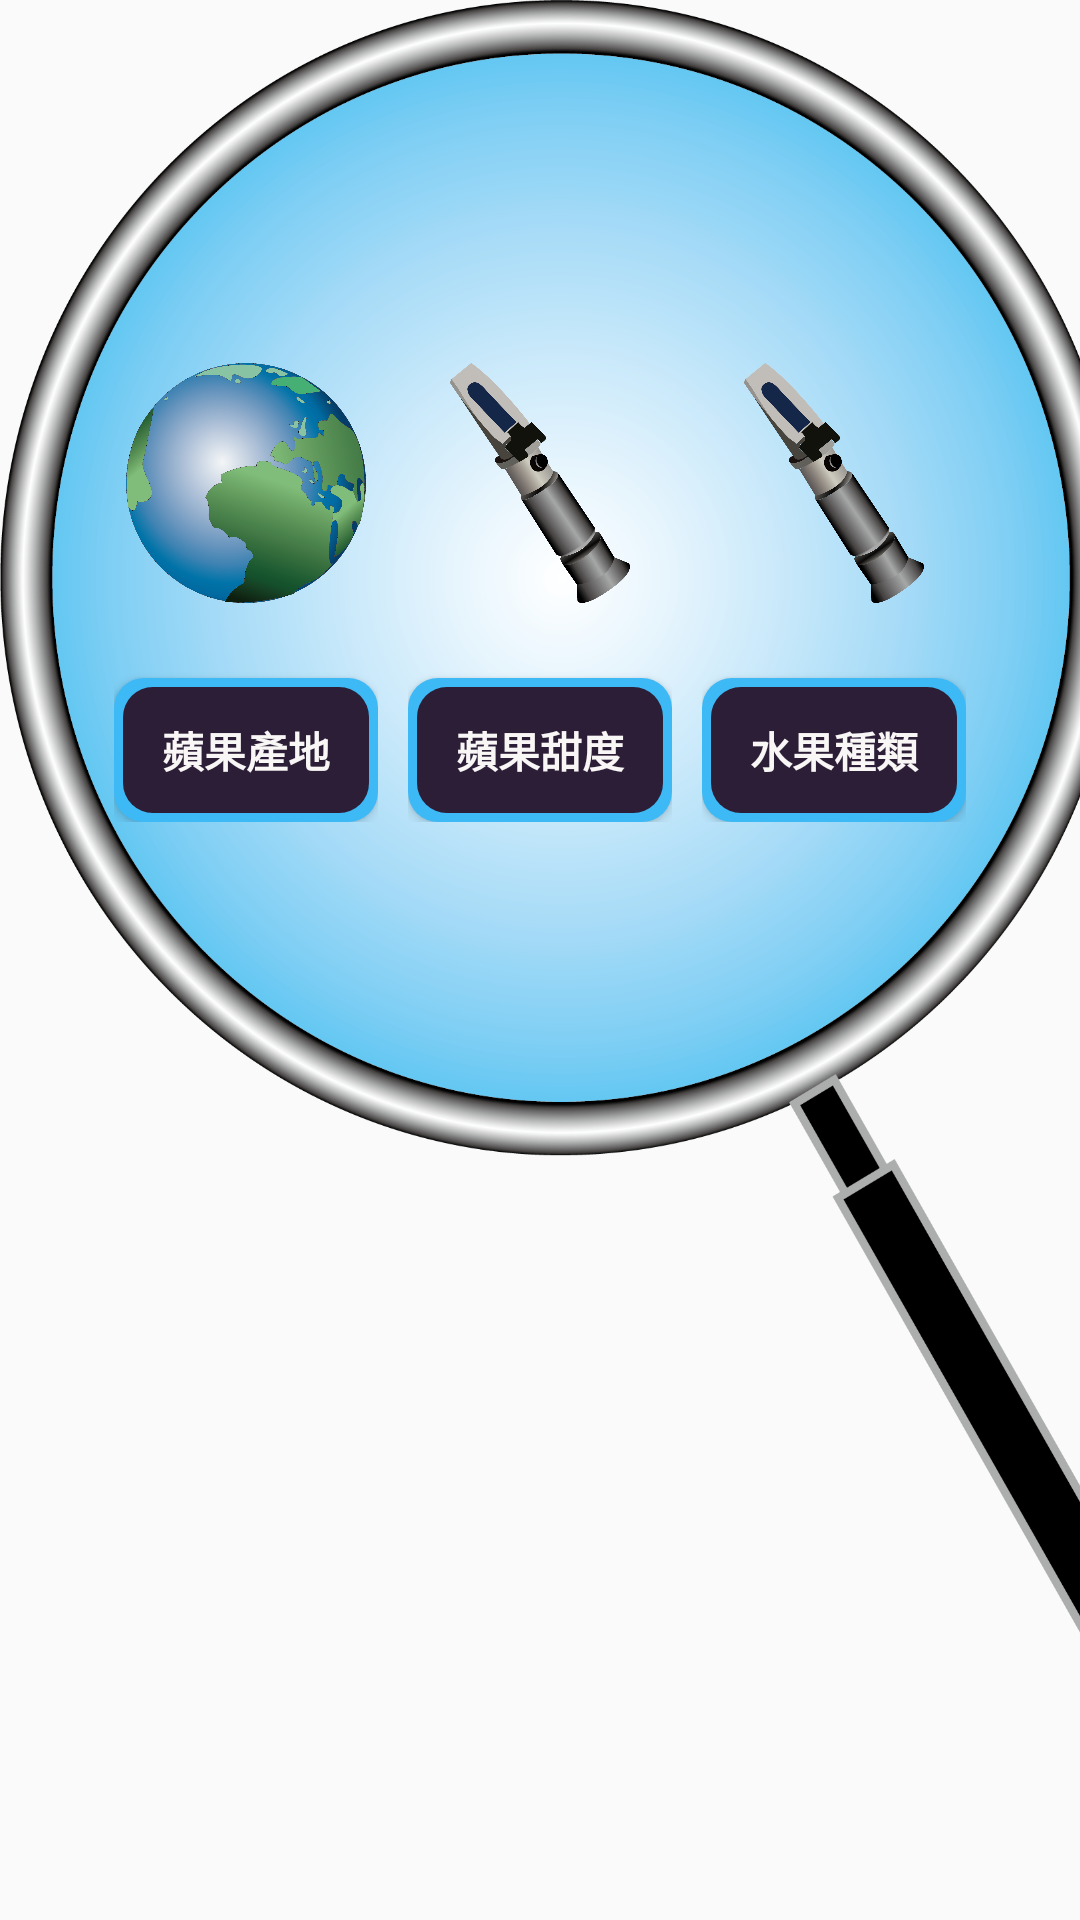

Named icons in this screenshot (1080px×1920px) and their centers, (x,y):
place: (246,483)
